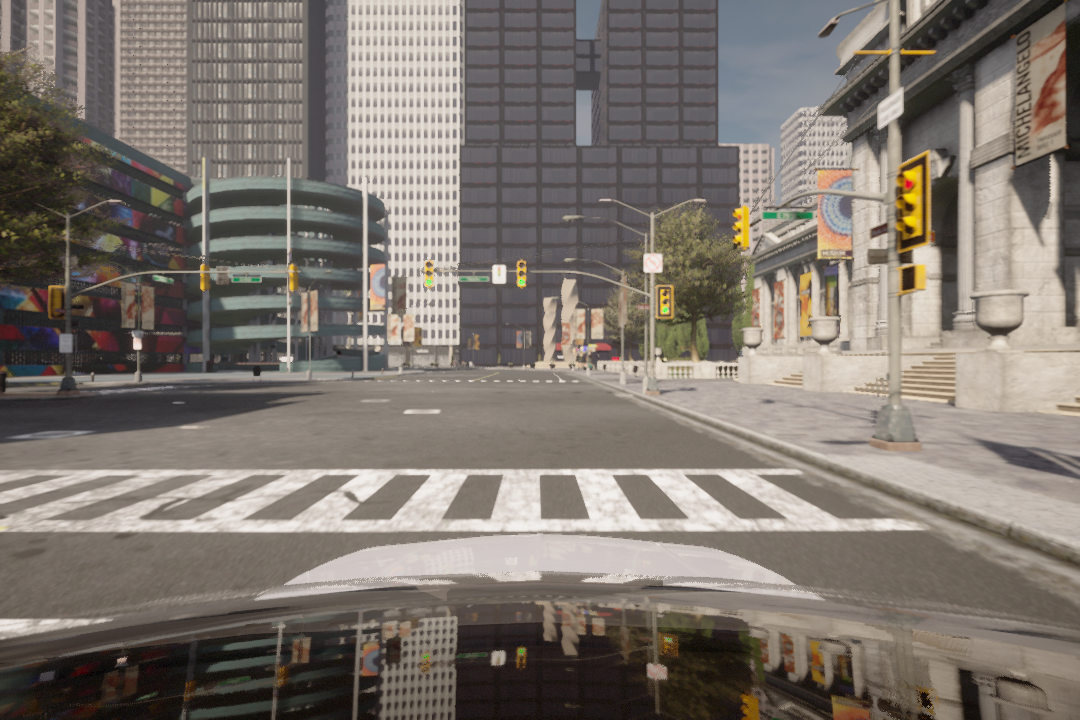TrafficLight: (897, 163, 933, 244), (728, 205, 752, 253), (655, 285, 674, 320), (514, 258, 530, 287), (424, 259, 433, 290)
TrafficSign: (644, 254, 661, 274)
walkside: (4, 472, 927, 533)
